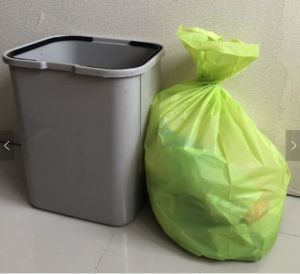plastic_bag: (141, 21, 293, 267)
